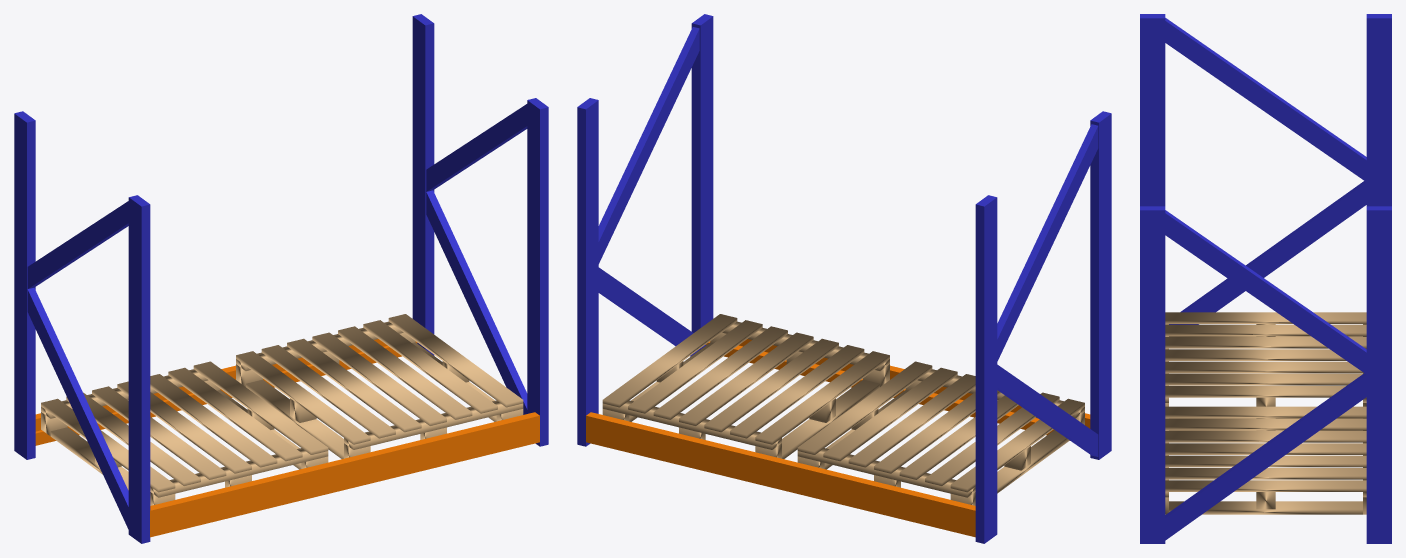
Rendered from Longarina_Junto_2pallets_pronto.glb.
The picture shows the model from 3 angles, left to right: view 1: azimuth 30°, elevation 25°; view 2: azimuth 150°, elevation 25°; view 3: azimuth 270°, elevation 25°; orthographic projection.
Visible parts, largest first — view 1: Cube.006; view 2: Cube.006; view 3: Cube.006.
Boxes of the visible parts, x1,y1,x2,y2 form: Cube.006: (14, 14, 548, 543); Cube.006: (577, 14, 1111, 543); Cube.006: (1140, 14, 1391, 543).
Bounding box in the file's own units: 2.4 × 1.9 × 1.3.
